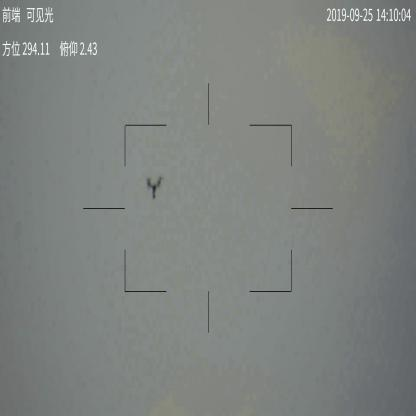uav: (146, 175, 163, 201)
